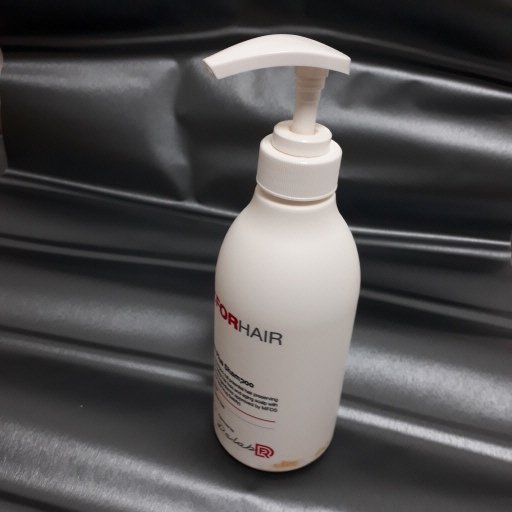Plastic_3: (197, 34, 361, 474)
